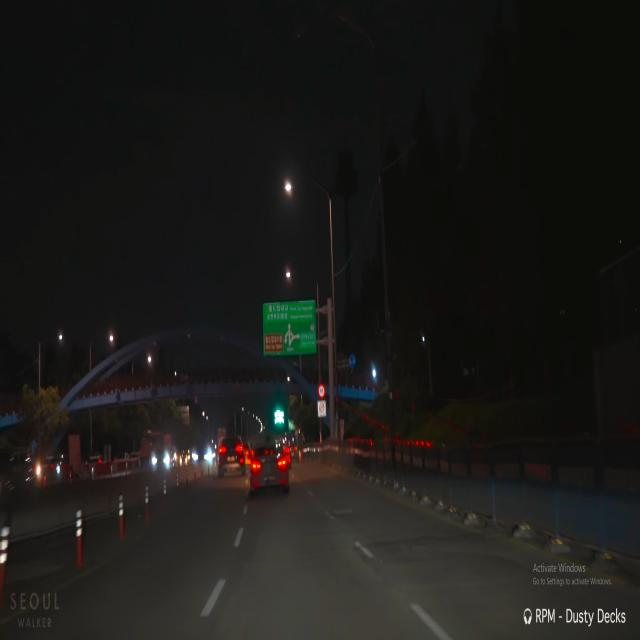headlights: (190, 443, 214, 468), (145, 450, 174, 470)
